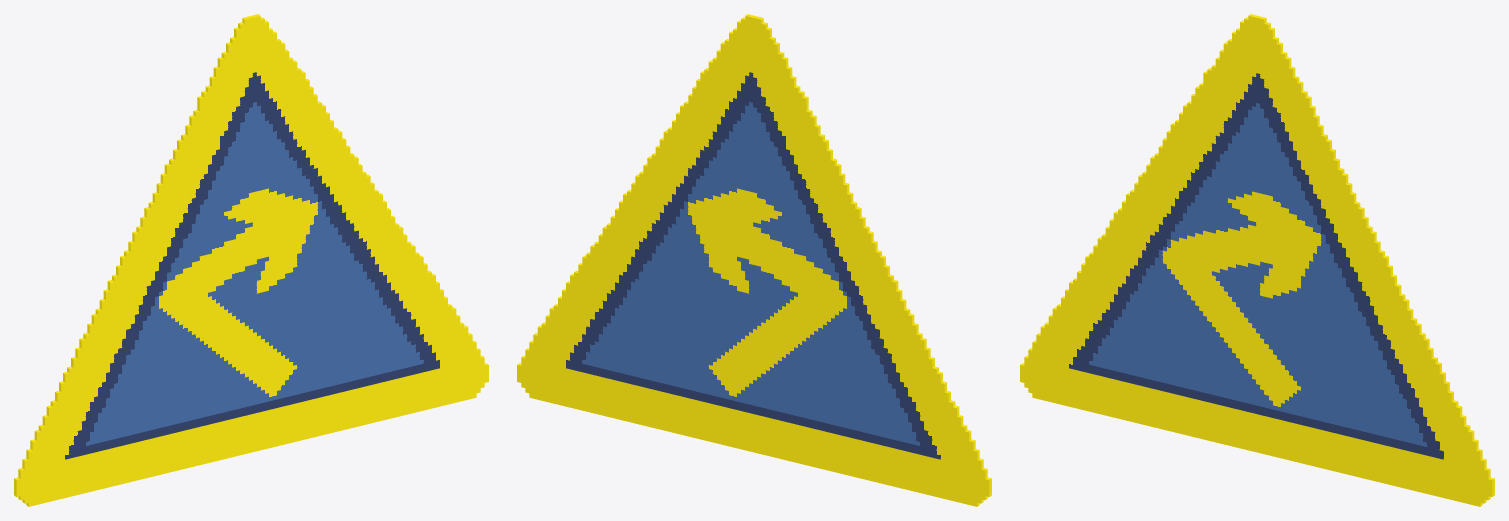
Rendered from 右转弯a.gltf.
3 renders of one model, left to right at view 1: azimuth 30°, elevation 25°; view 2: azimuth 150°, elevation 25°; view 3: azimuth 330°, elevation 25°, orthographic.
Visible parts, largest first — view 1: Group; view 2: Group; view 3: Group.
Boxes of the visible parts, bbox=[...] form: Group: bbox=[14, 14, 488, 506]; Group: bbox=[517, 14, 991, 506]; Group: bbox=[1020, 14, 1494, 506].
Size of the model in its own units: 116 by 102 by 1.
1 material, 1 textured.
